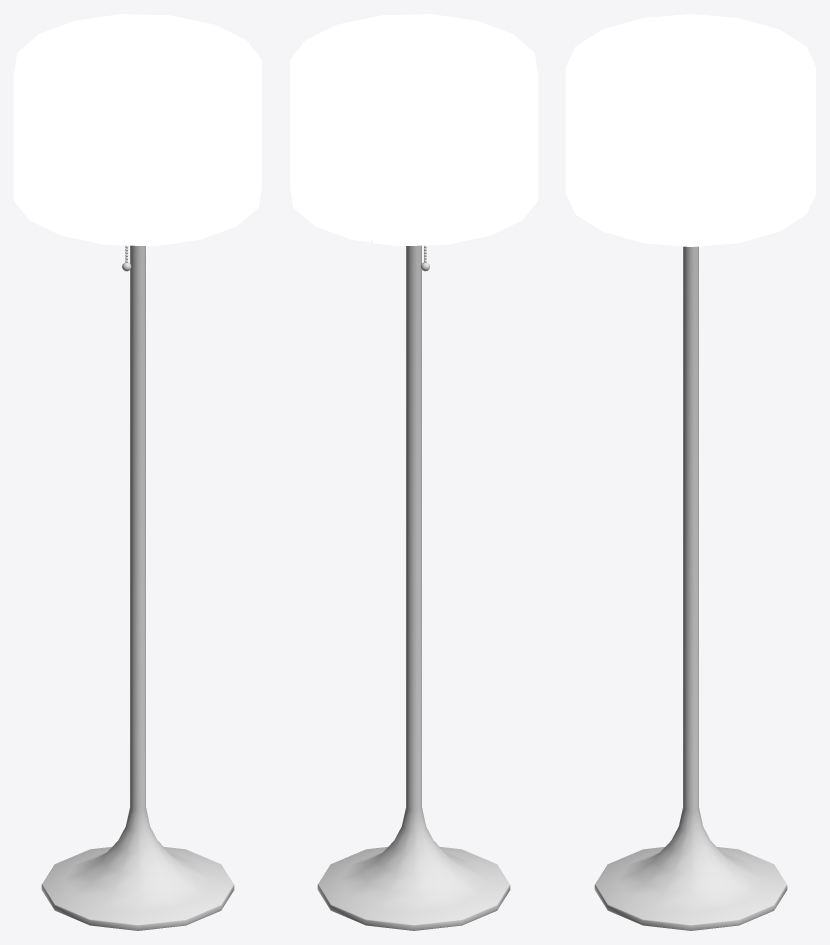
The model's file is Lights_Floor_Lamps_5.fbx.
The picture shows the model from 3 angles, left to right: view 1: azimuth 30°, elevation 25°; view 2: azimuth 150°, elevation 25°; view 3: azimuth 270°, elevation 25°; orthographic projection.
Parts seen in each view (by area): view 1: Cylinder.035; view 2: Cylinder.035; view 3: Cylinder.035.
Boxes of the visible parts, <box> form: Cylinder.035: <box>14,14,261,930</box>; Cylinder.035: <box>290,14,537,930</box>; Cylinder.035: <box>566,14,815,930</box>.
Bounding box in the file's own units: 49.94 × 182 × 49.94.
